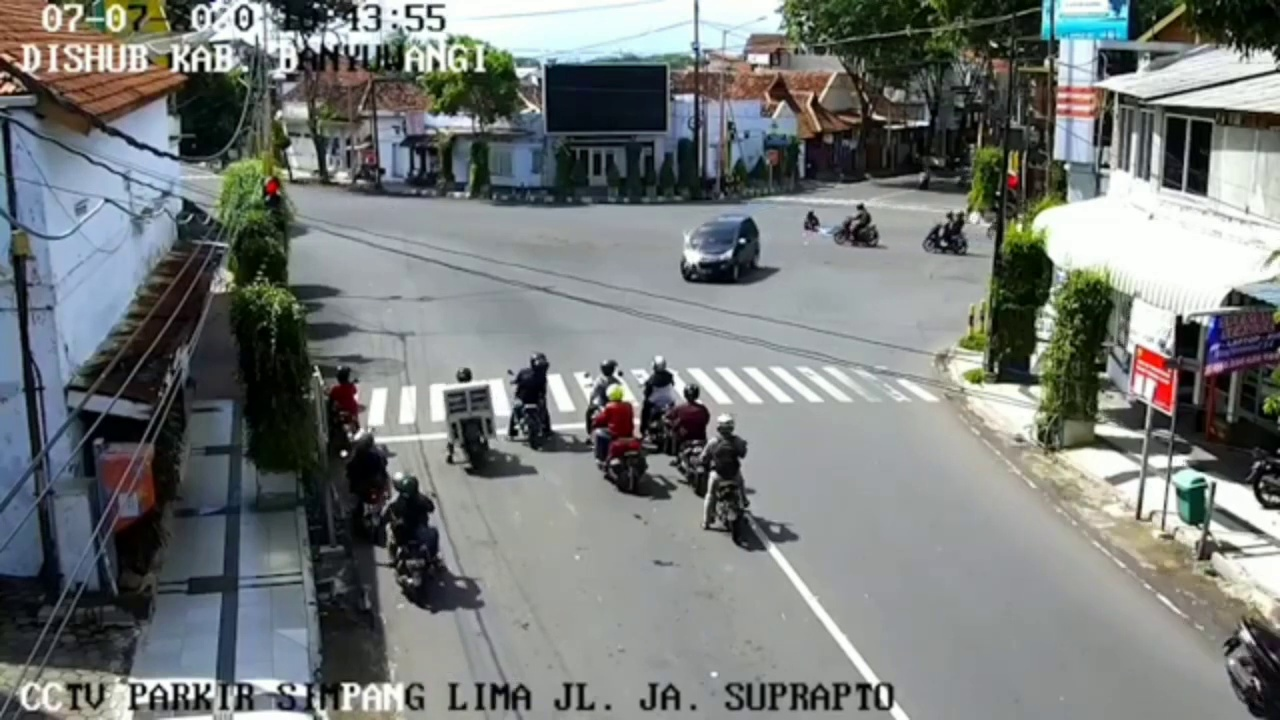car: (682, 212, 761, 285)
motorbike: (390, 466, 440, 613), (439, 363, 497, 475), (706, 419, 755, 543), (597, 387, 648, 491), (350, 433, 395, 549), (670, 383, 707, 493), (514, 355, 557, 445), (643, 360, 676, 447), (325, 362, 362, 436), (837, 202, 881, 253), (925, 211, 968, 256)
